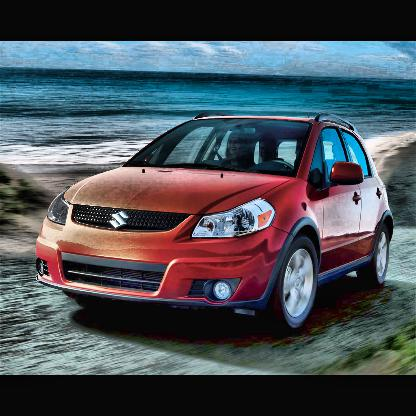Suzuki SX4 Hatchback 2012: (37, 111, 395, 332)
